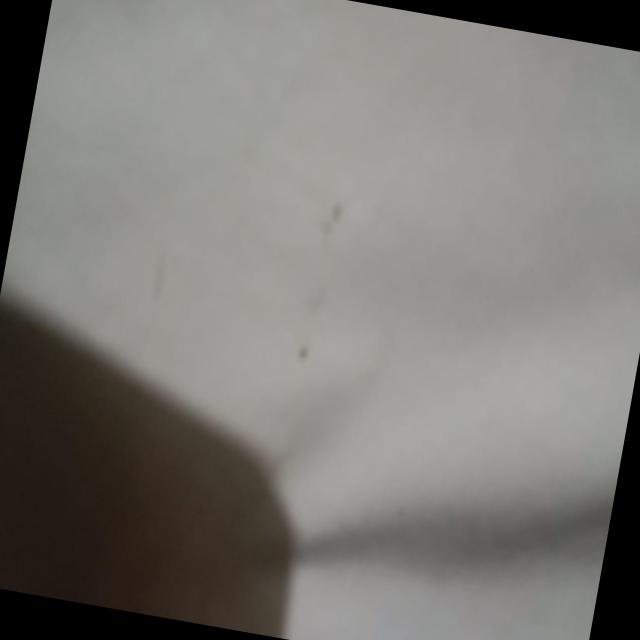stain: (286, 180, 367, 372)
